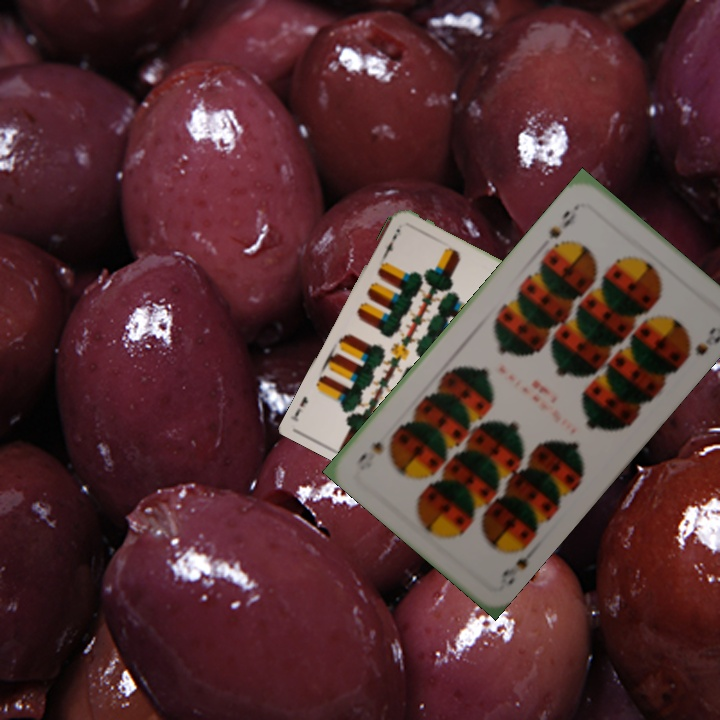E7: (380, 224, 403, 258)
S9: (495, 542, 540, 588), (544, 199, 584, 243)
